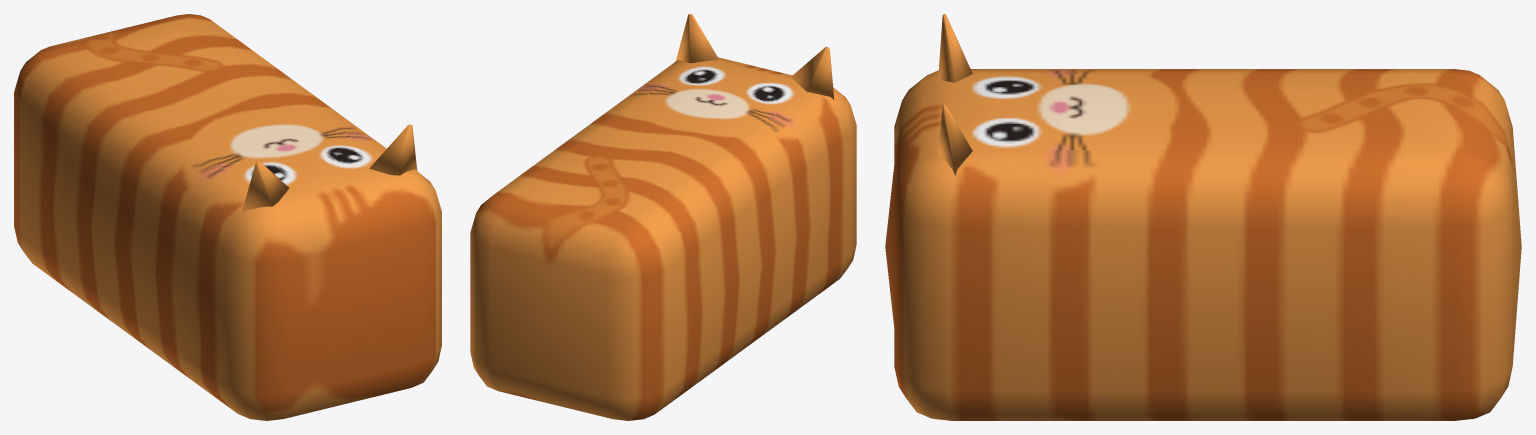
Rendered from Cat_2x1.fbx.
3 renders of one model, left to right at view 1: azimuth 30°, elevation 25°; view 2: azimuth 150°, elevation 25°; view 3: azimuth 270°, elevation 25°, orthographic. The views are drawn at different scales.
Visible parts, largest first — view 1: Cat_2x1; view 2: Cat_2x1; view 3: Cat_2x1.
Part boxes in pixels (x1=…): Cat_2x1: x1=14, y1=14, x2=441, y2=420; Cat_2x1: x1=470, y1=14, x2=856, y2=420; Cat_2x1: x1=885, y1=14, x2=1521, y2=420.
Size of the model in its own units: 0.976 by 1.05 by 1.98.
Materials: 1 (1 with a texture image).
